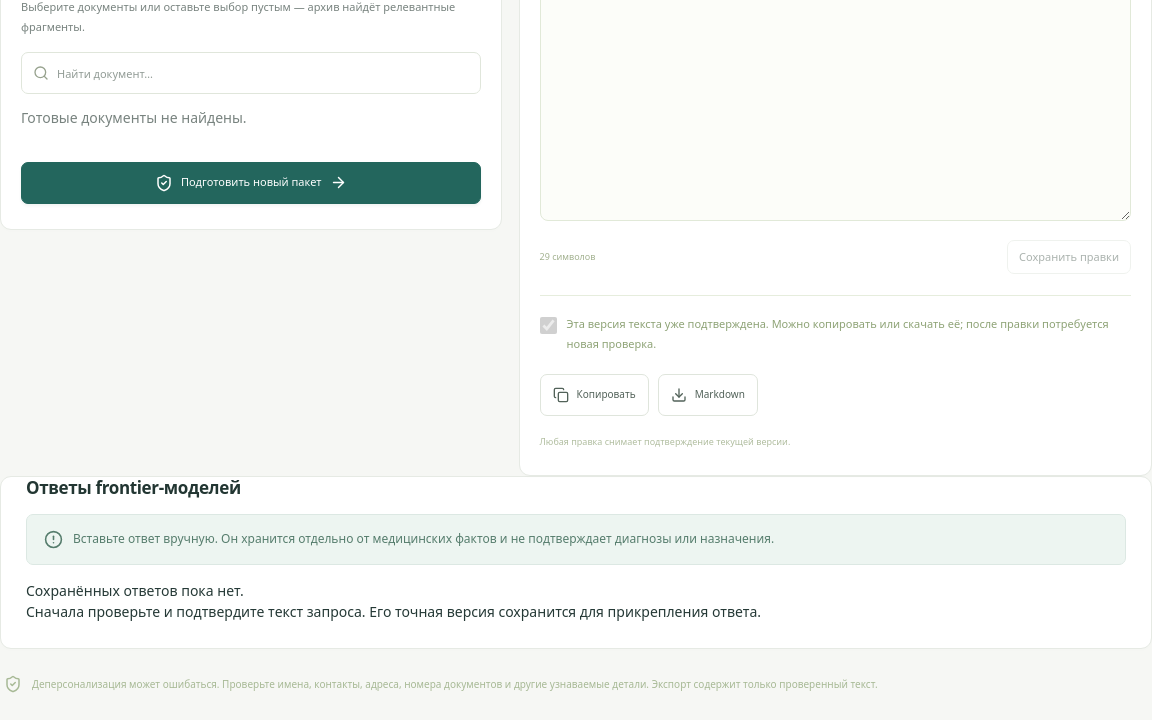
Test case: consultation page review lifecycle › does not copy a different server version than the exact preview
(page scrolled)
Click the button "Копировать" at [594, 394], box [540,374,649,416]
(page scrolled)
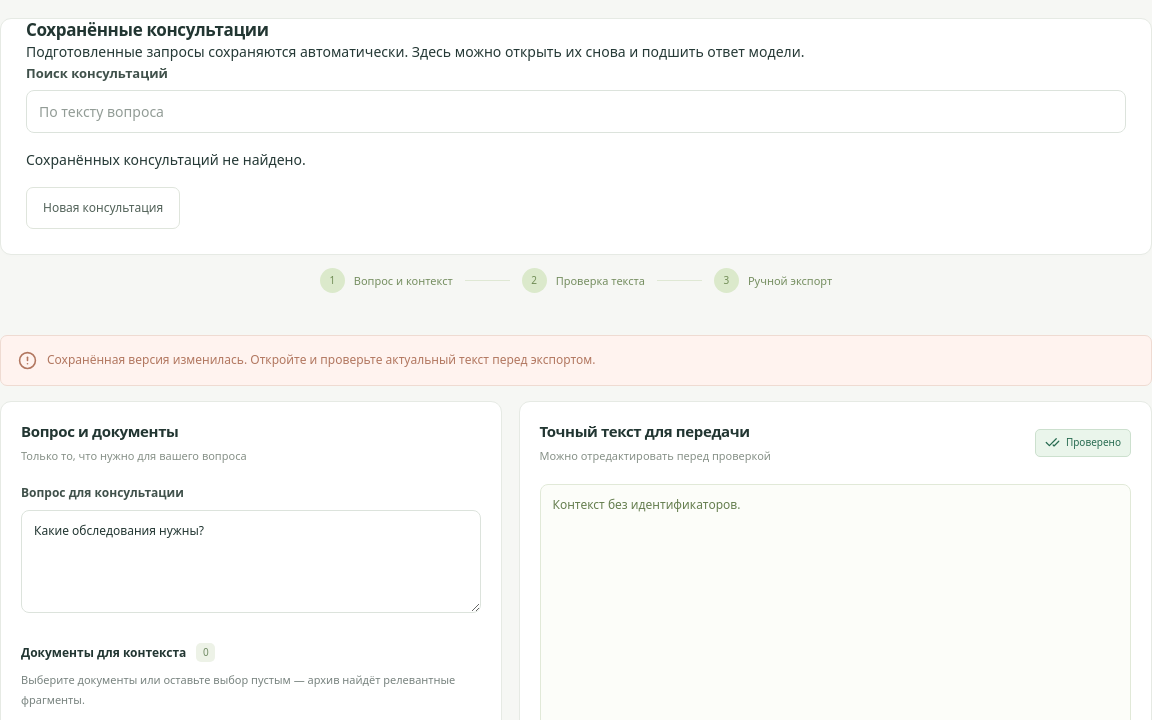
Expected: the message shows "Сохранённая версия изменилась", [47,351,596,368]
